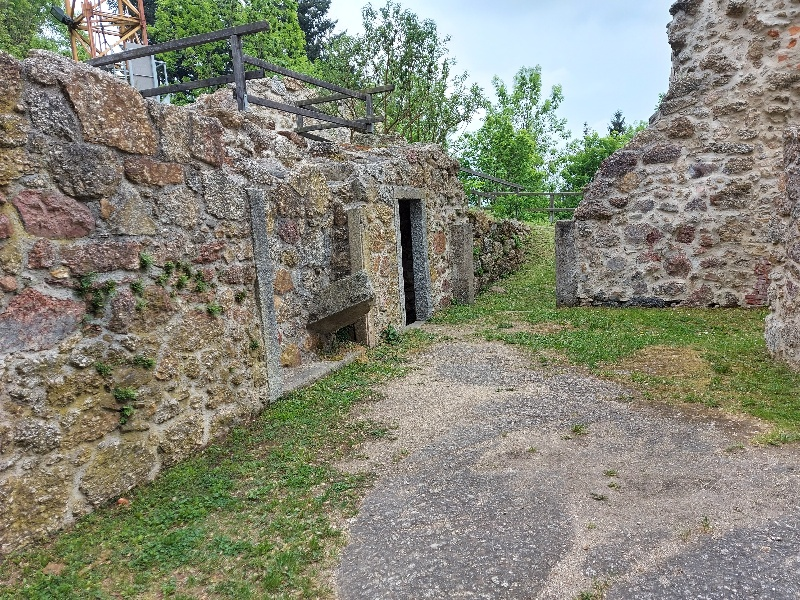door2: (387, 178, 441, 328)
